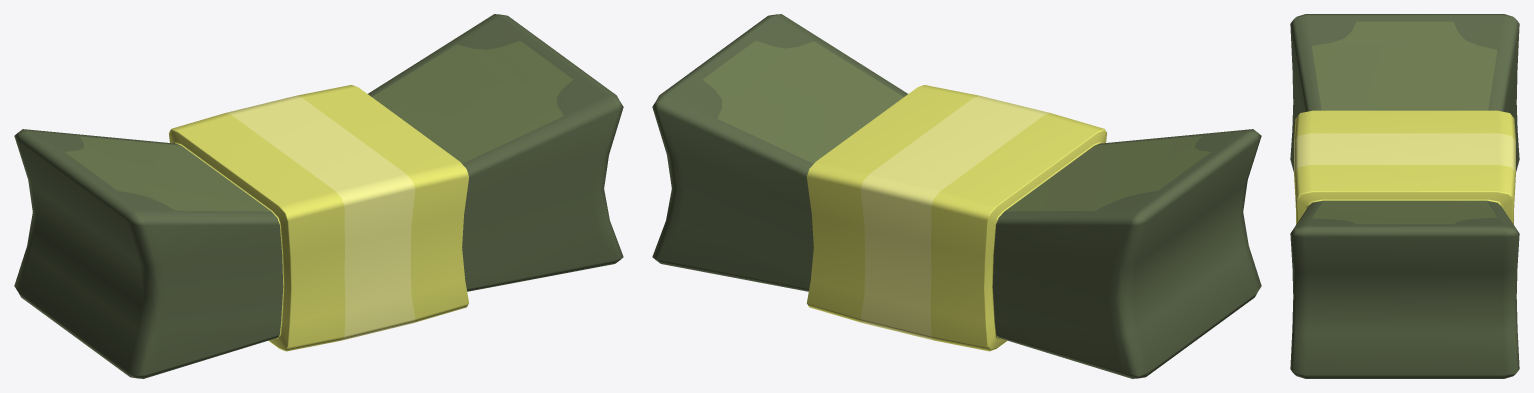
Rendered from MoneyStack.fbx.
3 views of the same model, side by side, from view 1: azimuth 30°, elevation 25°; view 2: azimuth 150°, elevation 25°; view 3: azimuth 270°, elevation 25° (orthographic). The views are drawn at different scales.
Visible parts, largest first — view 1: Money; view 2: Money; view 3: Money.
Boxes of the visible parts, x1,y1,x2,y2 form: Money: (14,14,623,378); Money: (652,14,1261,378); Money: (1290,14,1519,378).
Bounding box in the file's own units: 0.9552 × 0.3307 × 0.4227.
